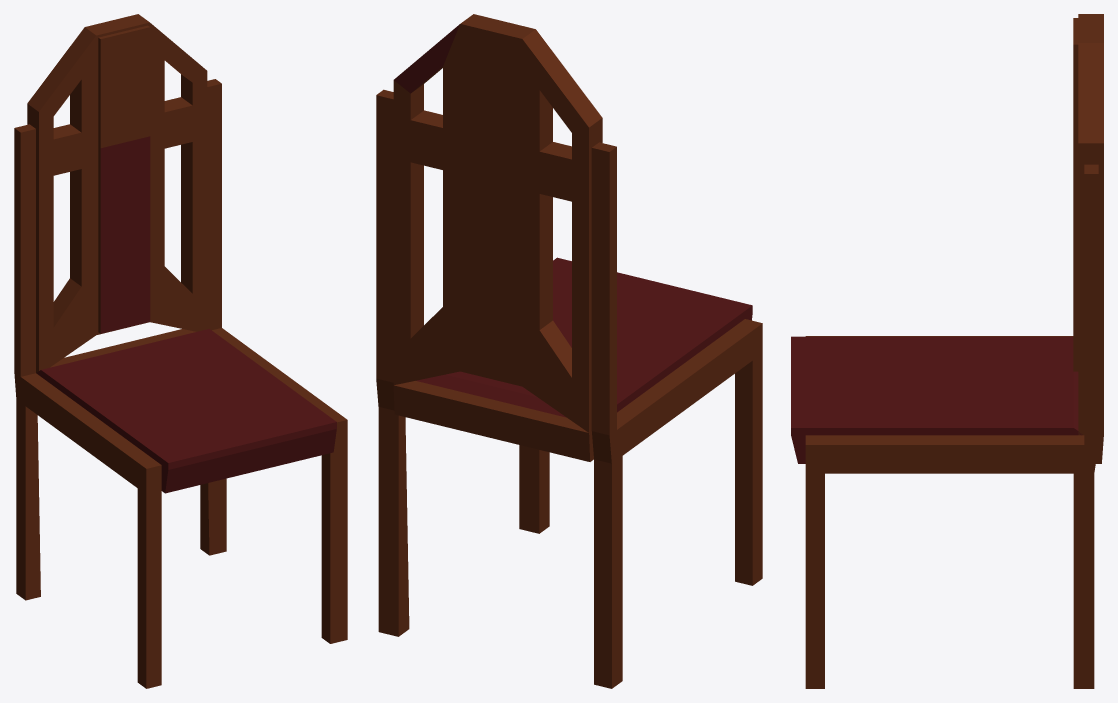
The model's file is Chair.FBX.
3 views of the same model, side by side, from view 1: azimuth 30°, elevation 25°; view 2: azimuth 150°, elevation 25°; view 3: azimuth 270°, elevation 25° (orthographic). The views are drawn at different scales.
Parts seen in each view (by area): view 1: Cadeira; view 2: Cadeira; view 3: Cadeira.
Part boxes in pixels (bbox=[...]): Cadeira: bbox=[14, 14, 347, 688]; Cadeira: bbox=[376, 14, 762, 688]; Cadeira: bbox=[791, 14, 1103, 688].
Size of the model in its own units: 20.29 by 52.6 by 24.64.
